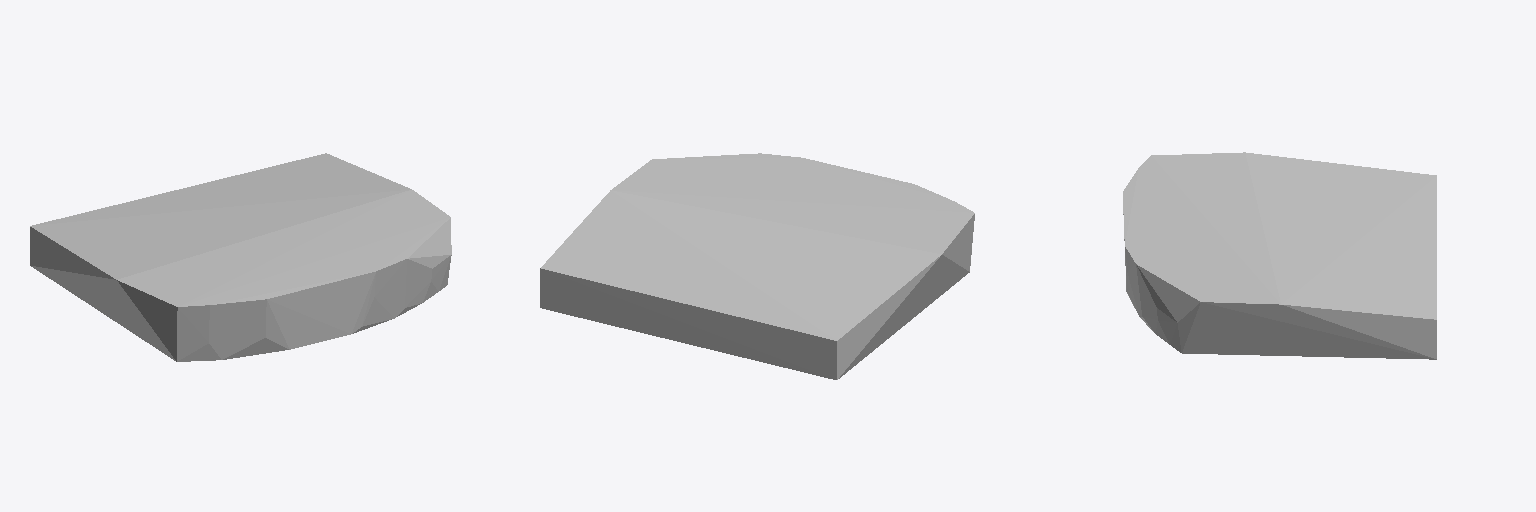
File: trash_bin_collision_3.obj
The picture shows the model from 3 angles: view 1: azimuth 30°, elevation 25°; view 2: azimuth 150°, elevation 25°; view 3: azimuth 270°, elevation 25°; orthographic projection.
Bounding box in the file's own units: 0.086 × 0.0163 × 0.0748.